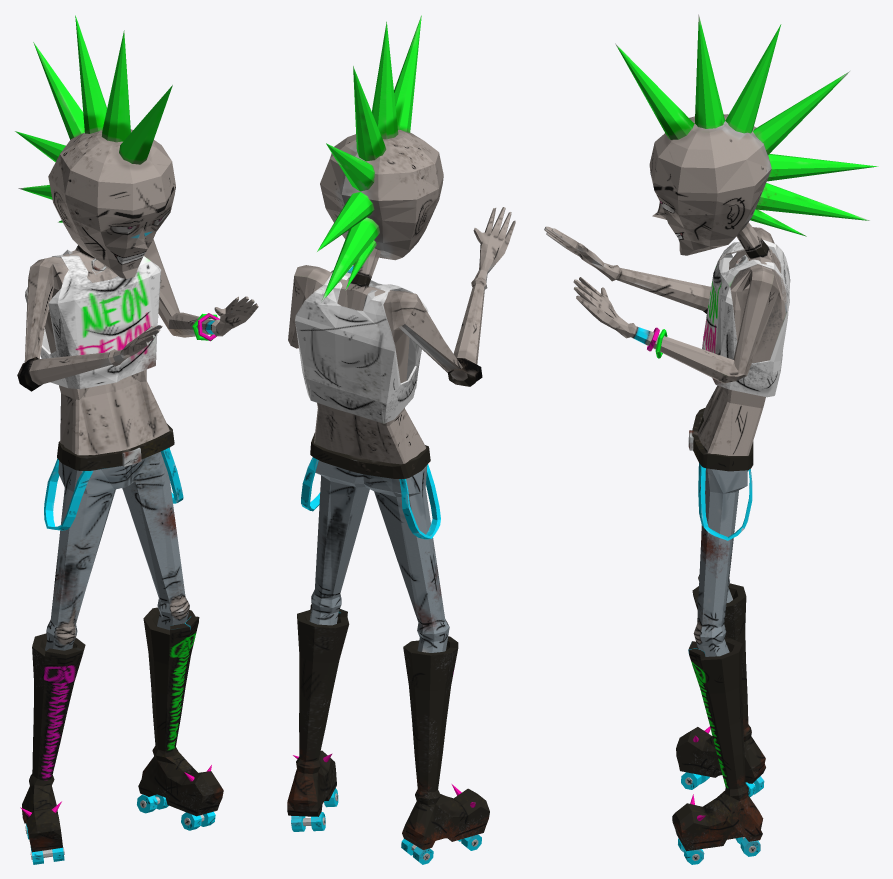
The model's file is punkAnimation_000025.obj.
3 renders of one model, left to right at view 1: azimuth 30°, elevation 25°; view 2: azimuth 150°, elevation 25°; view 3: azimuth 270°, elevation 25°, orthographic.
Parts seen in each view (by area): view 1: Cube.004_Cube.003; view 2: Cube.004_Cube.003; view 3: Cube.004_Cube.003.
Part boxes in pixels (x1=…): Cube.004_Cube.003: x1=15, y1=15, x2=258, y2=864; Cube.004_Cube.003: x1=287, y1=15, x2=515, y2=864; Cube.004_Cube.003: x1=544, y1=14, x2=878, y2=864.
Bounding box in the file's own units: 1.86 × 7.55 × 2.83.
